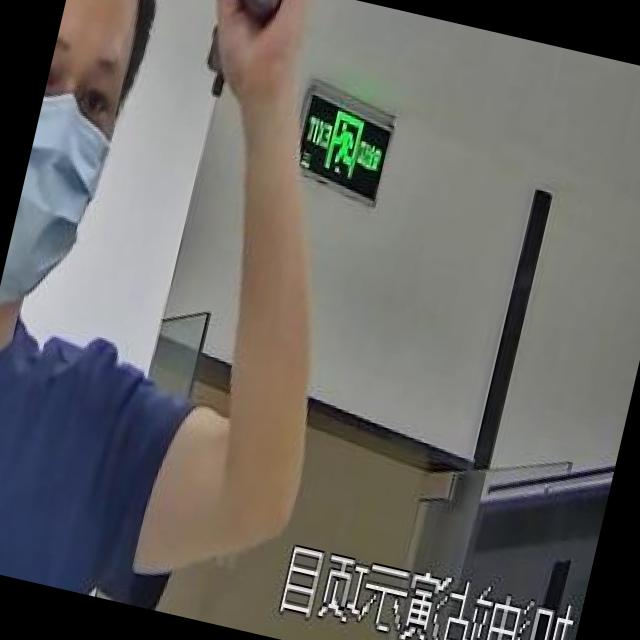Guns: (148, 0, 314, 109)
